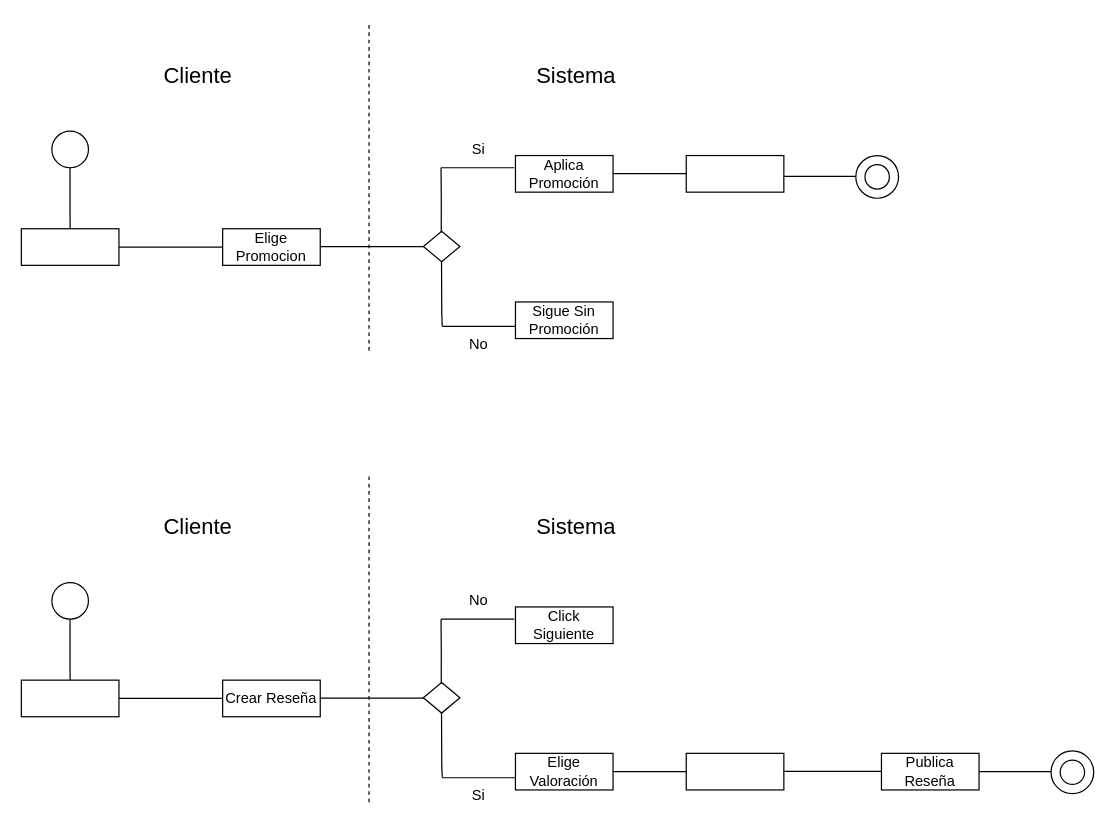
Image size: 1115x836. Some labels were removed from this diagram. The shapes that lost their labels are listed below. From the top down, each one's box as (x1, y1, x2, y2) in pixels, then its label:
(685, 154, 784, 192): Recalcula Pago
(20, 228, 119, 265): Mostrar Promociones
(20, 679, 119, 717): Apartado Reseñas
(685, 752, 784, 790): Verifica Reseña
